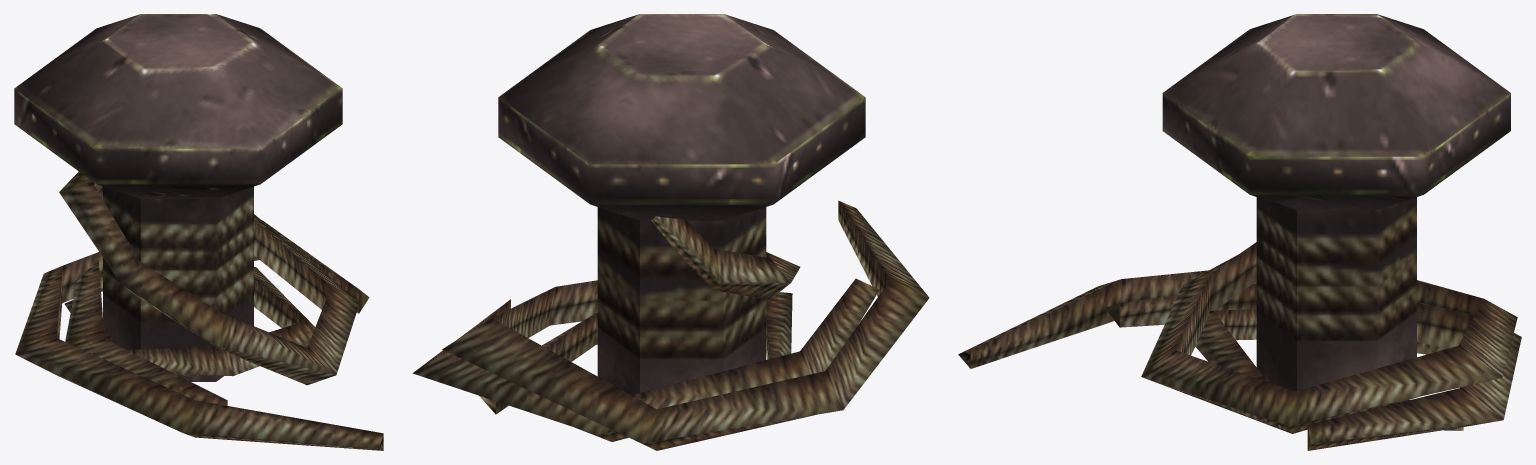
The model's file is diaochejia_jx_61.FBX.
The picture shows the model from 3 angles, left to right: view 1: azimuth 30°, elevation 25°; view 2: azimuth 150°, elevation 25°; view 3: azimuth 270°, elevation 25°; orthographic projection. The views are drawn at different scales.
Visible parts, largest first — view 1: diaochejia_jx_61; view 2: diaochejia_jx_61; view 3: diaochejia_jx_61.
Part boxes in pixels (x1=…): diaochejia_jx_61: x1=14, y1=14, x2=383, y2=450; diaochejia_jx_61: x1=412, y1=14, x2=929, y2=450; diaochejia_jx_61: x1=958, y1=14, x2=1521, y2=450.
Size of what is drawn, in the model's own units: 106 by 95.08 by 146.
